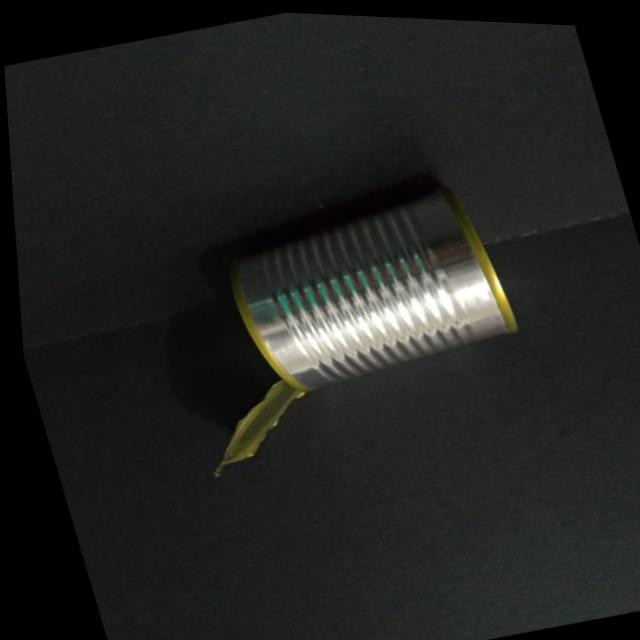metal: (135, 156, 554, 496)
